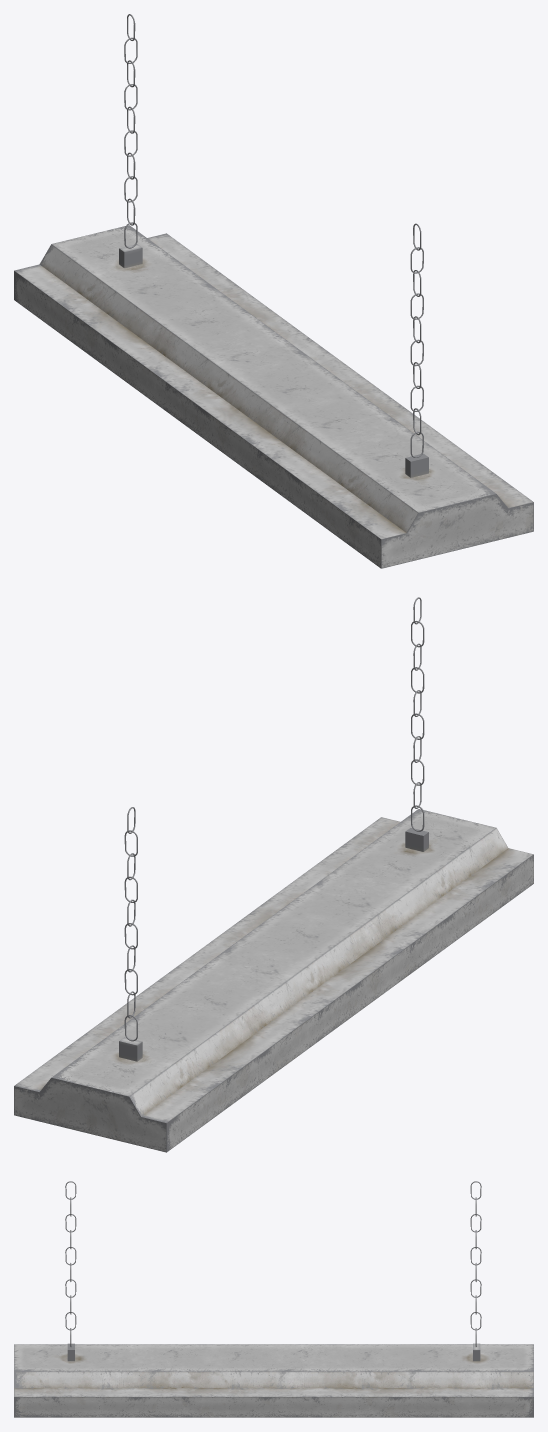
The model's file is light.gltf.
3 views of the same model, one above another, from view 1: azimuth 30°, elevation 25°; view 2: azimuth 150°, elevation 25°; view 3: azimuth 270°, elevation 25° (orthographic). The views are drawn at different scales.
Parts seen in each view (by area): view 1: SM_light_case; view 2: SM_light_case; view 3: SM_light_case.
Part boxes in pixels (<box>): SM_light_case: <box>14,225,533,568</box>; SM_light_case: <box>14,809,533,1152</box>; SM_light_case: <box>14,1343,533,1417</box>.
Size of the model in its own units: 12.93 by 24.01 by 53.85.
2 materials, 2 textured.
